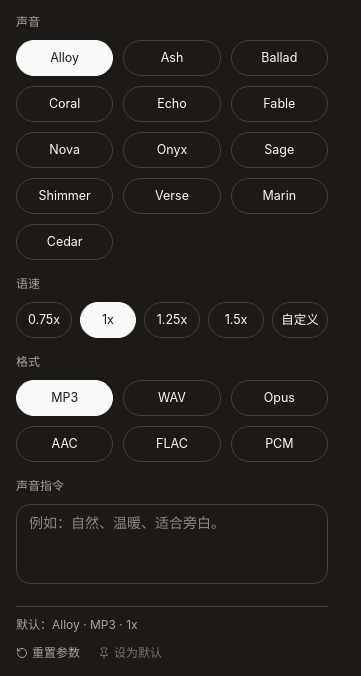
AudioSettingsPanel 重构（D9/D12） › 语速行有「自定义」按钮并可提交 1.3x
Click the button "自定义" at coordinates (300, 320), box [272,302,328,338]
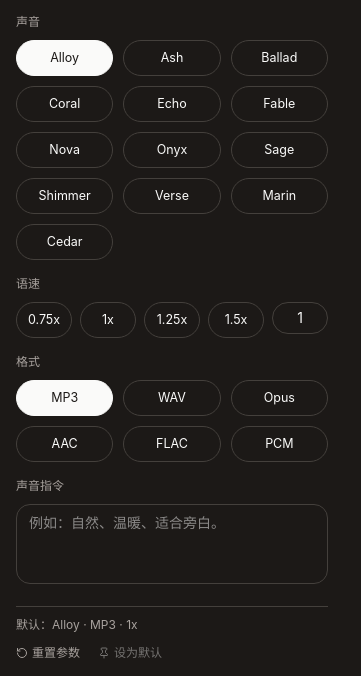
Replace the text in the number field showing "1" with "1.3" at coordinates (300, 318), box [273,308,327,328]
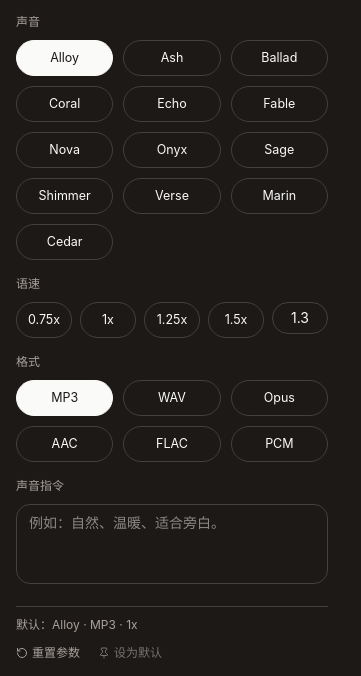
Leave the number field showing "1.3", box [273,308,327,328]
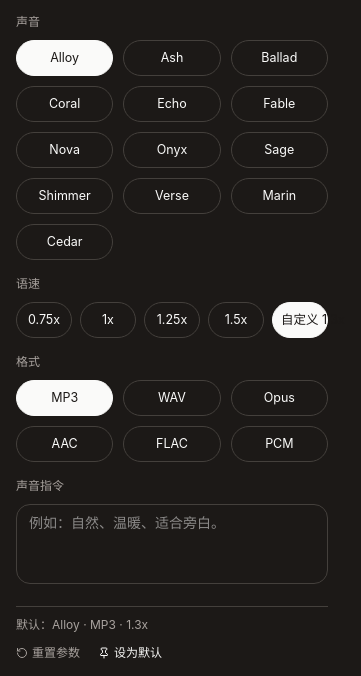
Now the text "自定义 1.3x" is shown, box [281,312,345,327]
